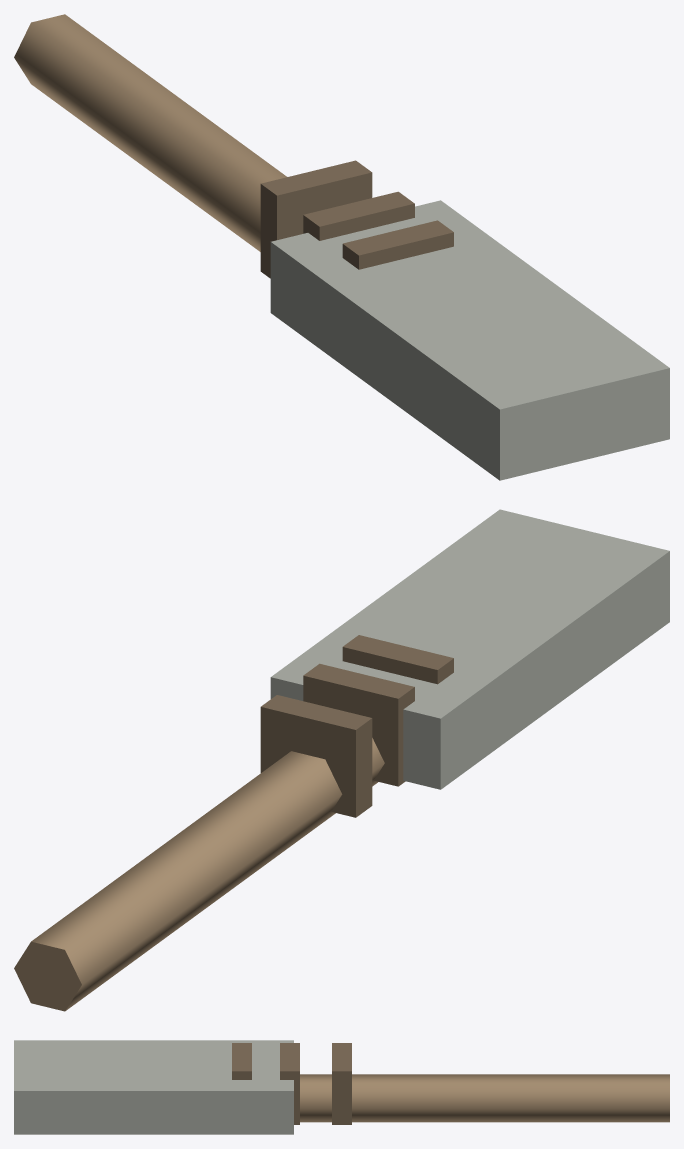
File: spread-portable-forged-blade-willow-leather.fbx
The picture shows the model from 3 angles, top to bottom: view 1: azimuth 30°, elevation 25°; view 2: azimuth 150°, elevation 25°; view 3: azimuth 270°, elevation 25°; orthographic projection. The views are drawn at different scales.
Visible parts, largest first — view 1: spread-portable-forged-blade-willow-leather__Geometry; view 2: spread-portable-forged-blade-willow-leather__Geometry; view 3: spread-portable-forged-blade-willow-leather__Geometry.
Part boxes in pixels (x1,y1,x2,y2): spread-portable-forged-blade-willow-leather__Geometry: (14, 14, 669, 480); spread-portable-forged-blade-willow-leather__Geometry: (14, 509, 669, 1011); spread-portable-forged-blade-willow-leather__Geometry: (14, 1040, 669, 1134).
Bounding box in the file's own units: 0.15 × 0.083 × 0.82.
